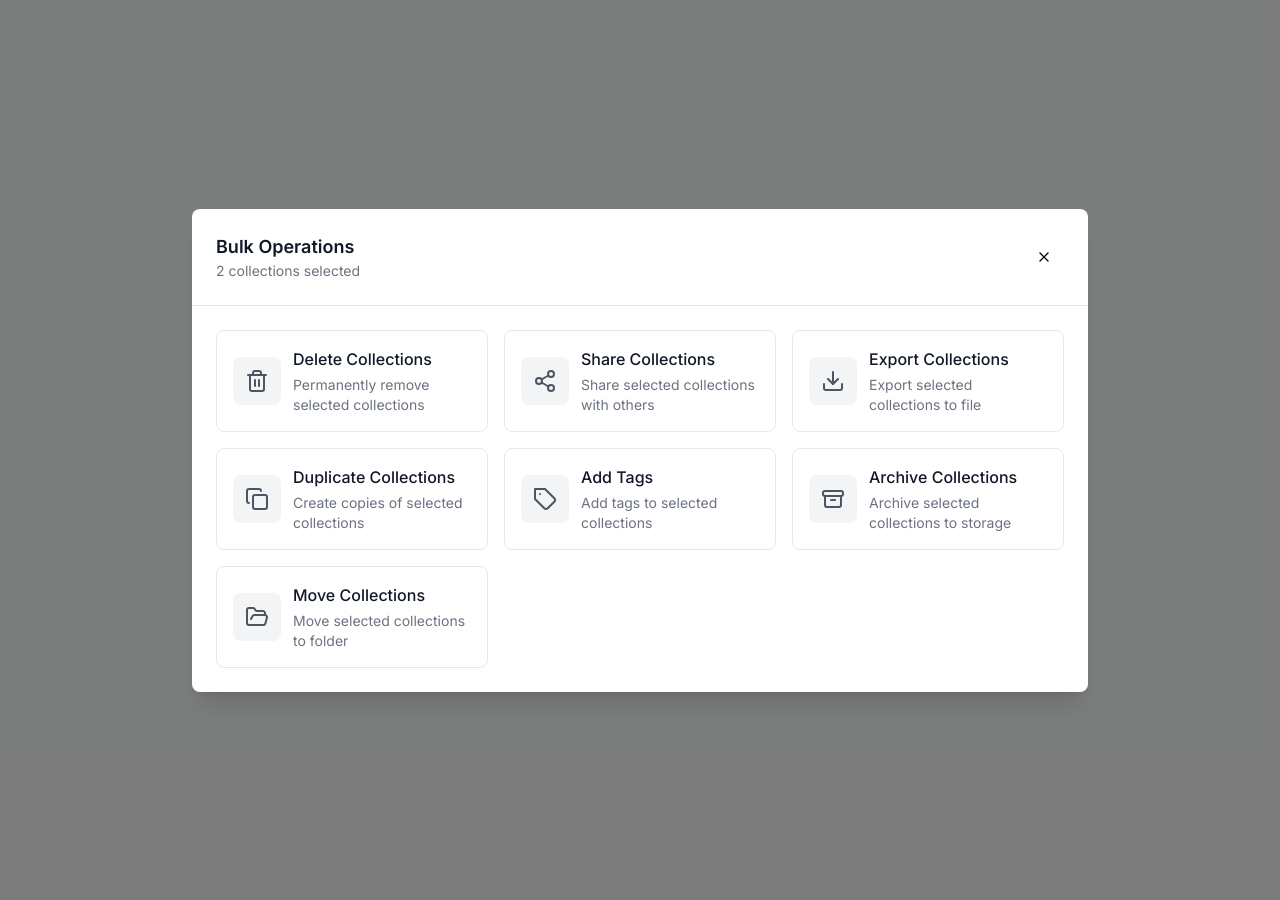
Test case: BulkOperations › shows export options when export is selected
Click the heading "Export Collections" at (939, 358), box [869, 348, 1009, 368]
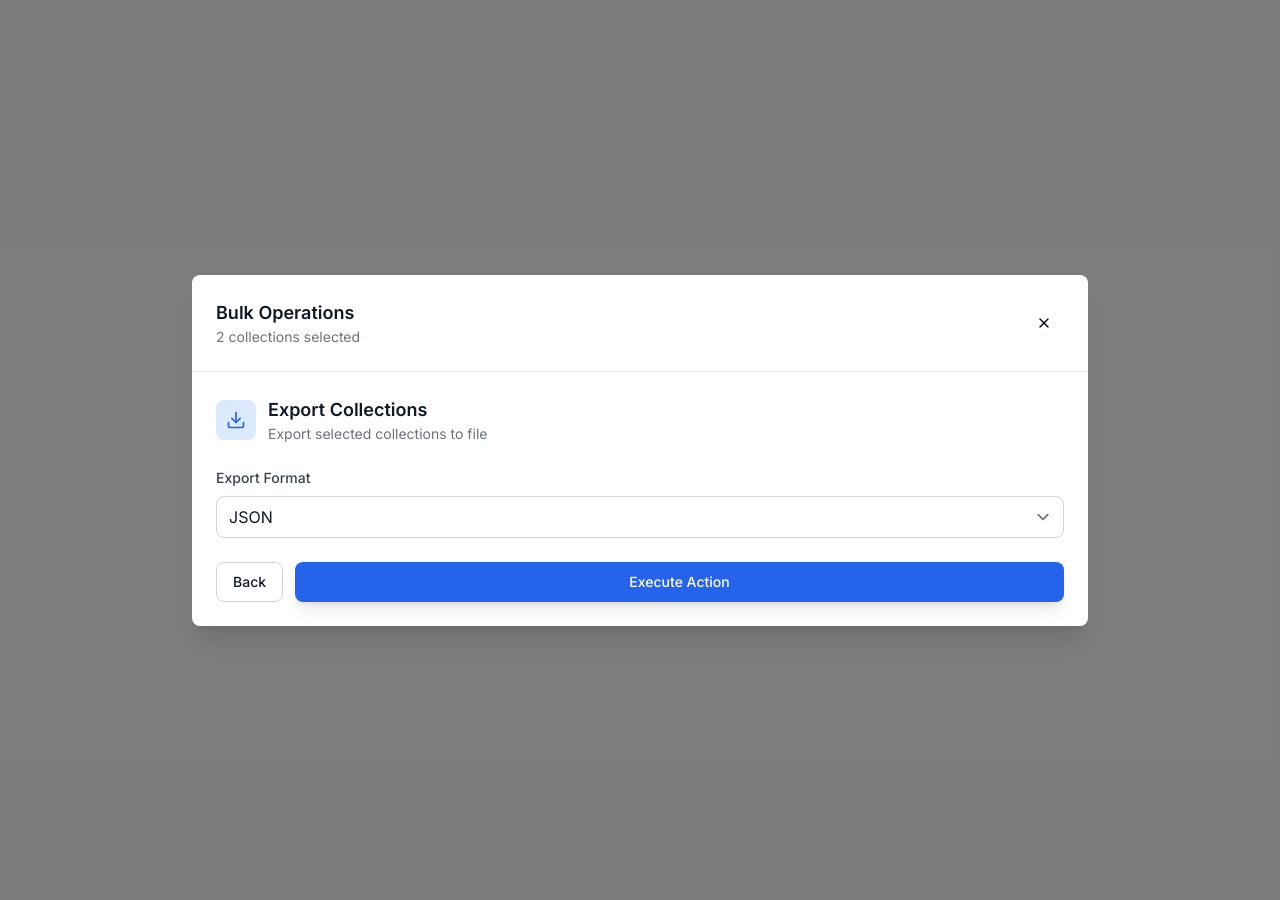
Check: the text "Export Format" is shown, box [216, 468, 310, 486]
